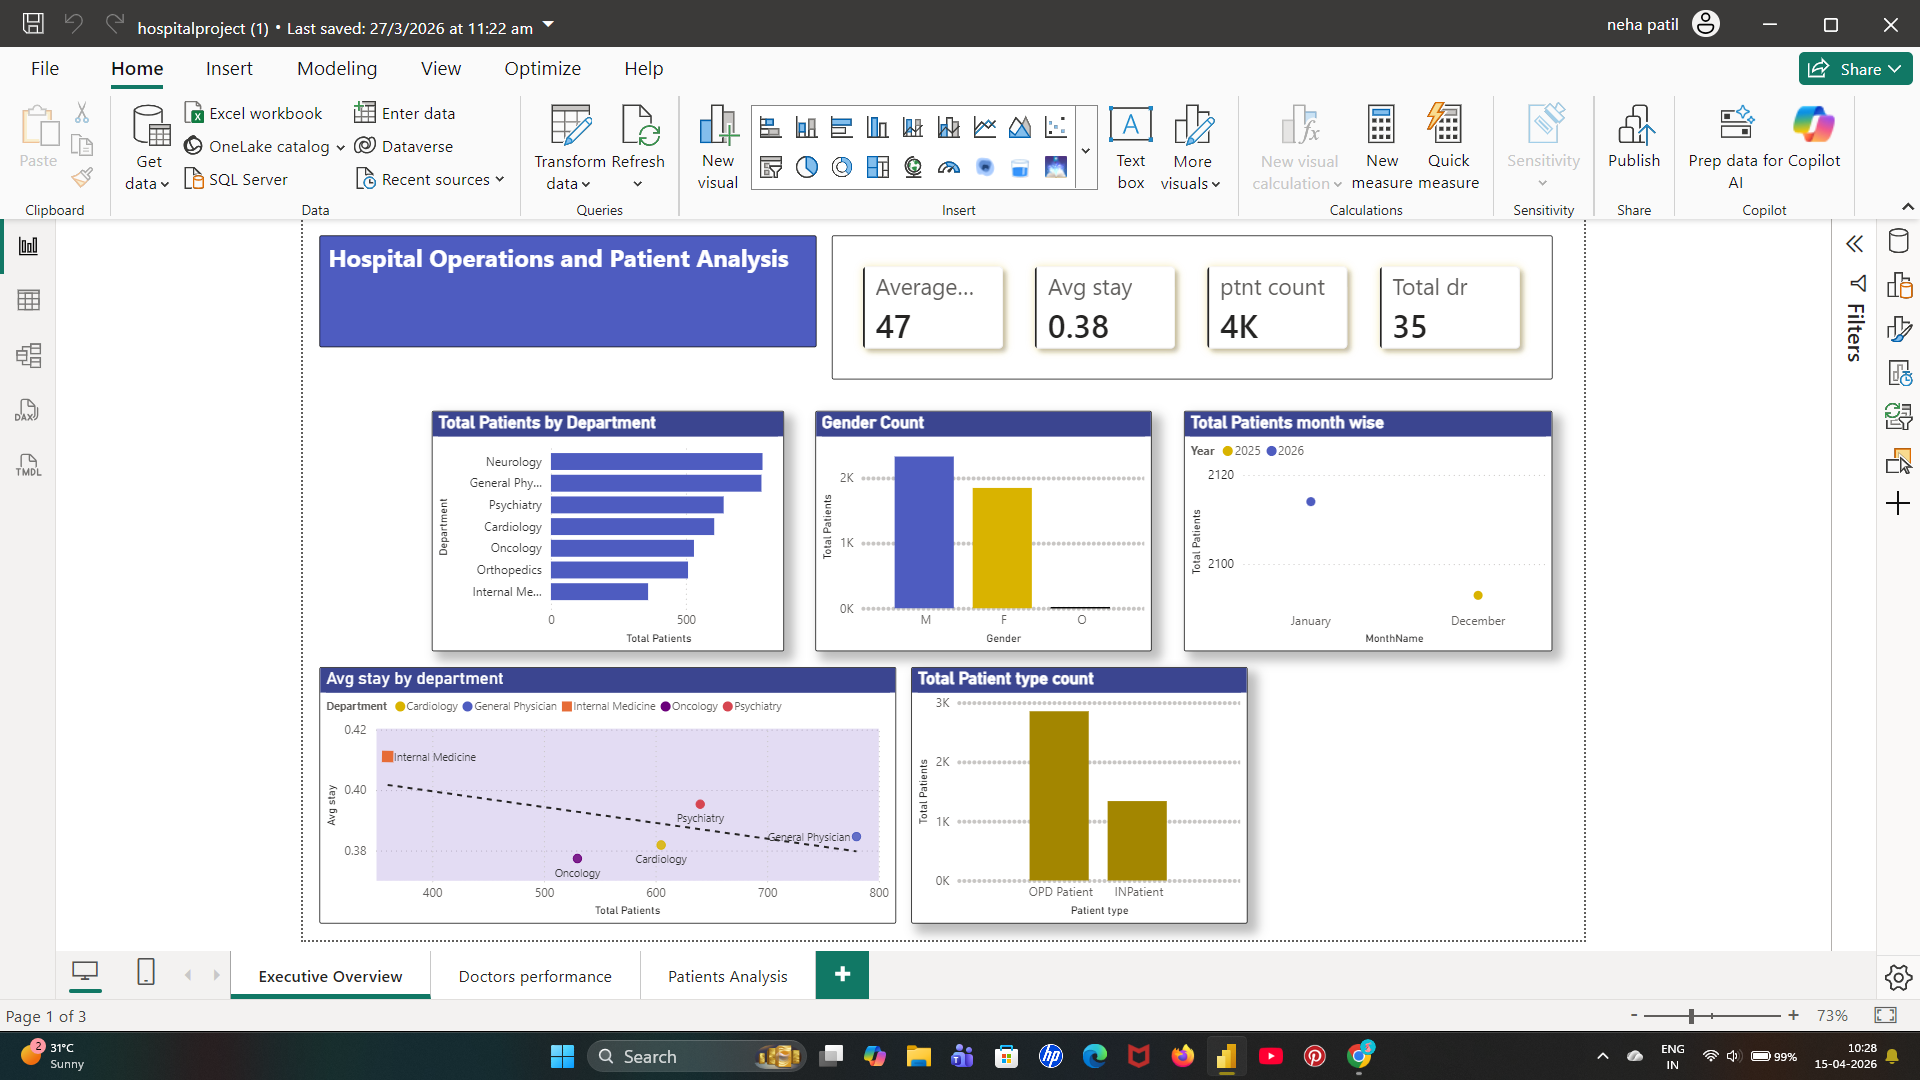

The page's visual inventory and layout, read from the dashboard file:
{"tool":"powerbi","page":{"name":"Executive  Overview","canvas":[1280,720],"ordinal":0},"visuals":[{"type":"cardVisual","fields":{"Data":["key measures.Average Age","key measures.Avg stay","key measures.patientscount","key measures.total doctor"]},"box":[528,16,720,144],"z":0},{"type":"barChart","fields":{"Y":["key measures.patientscount"],"Category":["doctors.department"]},"box":[128,192,352,240],"z":1000},{"type":"columnChart","title":"Gender Count","fields":{"Category":["patients.Gender"],"Y":["key measures.patientscount"]},"box":[512,192,336,240],"z":2000},{"type":"lineChart","title":"Total Patients month wise","fields":{"Category":["calendar.MonthName"],"Series":["calendar.Year"],"Y":["key measures.patientscount"]},"box":[880,192,368,240],"z":3000},{"type":"scatterChart","title":"Avg stay by department","fields":{"X":["key measures.Total Patients"],"Y":["key measures.Avg stay"],"Series":["doctors.Department"]},"box":[16,448,576,256],"z":4000},{"type":"columnChart","title":"Total Patient type count","fields":{"Y":["key measures.patientscount"],"Category":["patients.Patient type"]},"box":[608,448,336,256],"z":5000},{"type":"textbox","box":[16,16,496,112],"z":5001}]}

Visuals, with their boxes on the page's 1280x720 design canvas (x1, y1, x2, y2). These are canvas units, not pixel positions in the 1920x1080 screenshot, which may show the page scaled, cropped or inside an application window:
cardVisual - key measures.Average Age x key measures.Avg stay: 528, 16, 1248, 160
barChart - key measures.patientscount x doctors.department: 128, 192, 480, 432
"Gender Count" columnChart: 512, 192, 848, 432
"Total Patients month wise" lineChart: 880, 192, 1248, 432
"Avg stay by department" scatterChart: 16, 448, 592, 704
"Total Patient type count" columnChart: 608, 448, 944, 704
textbox: 16, 16, 512, 128
